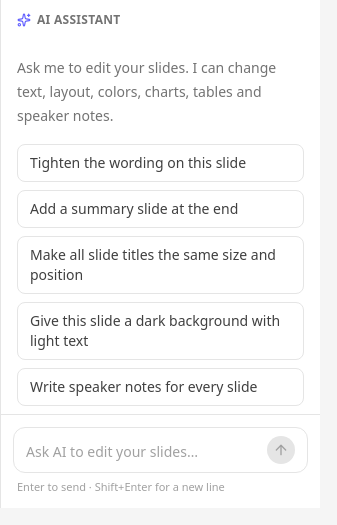
Test: ChatPanel › submits with the send button and trims the message
This screenshot has width=337, height=525.
Type "  Hi  " into the text box named "Message the AI assistant" at (142, 452), box [26,440,259,464]
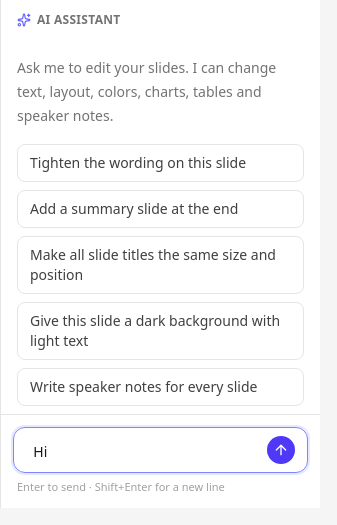
Click the button named "Send" at (281, 450), box [267,436,295,464]
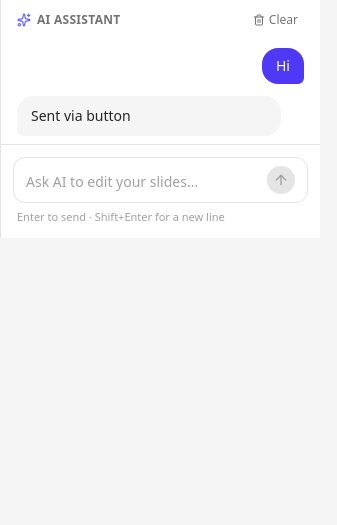
Result: the text "Sent via button" is shown at [31,106,131,125]
